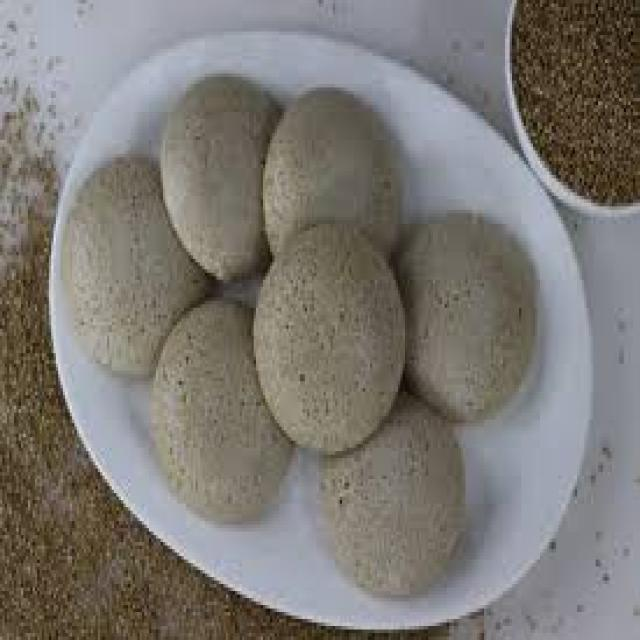IDLI: (149, 294, 291, 514), (317, 388, 463, 591), (398, 210, 533, 413), (263, 91, 398, 248)
